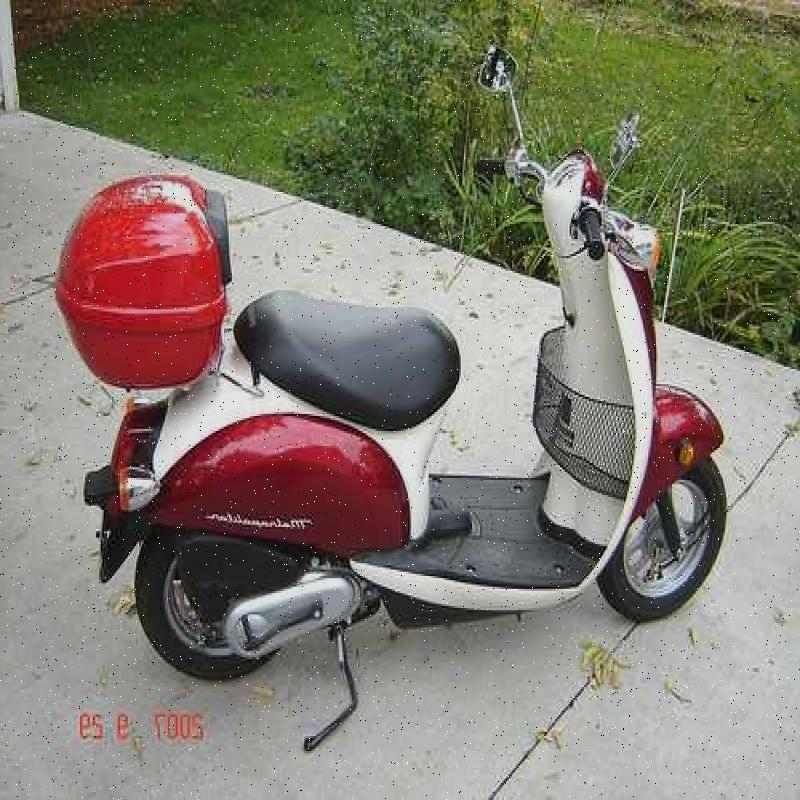bike: (65, 101, 723, 679)
